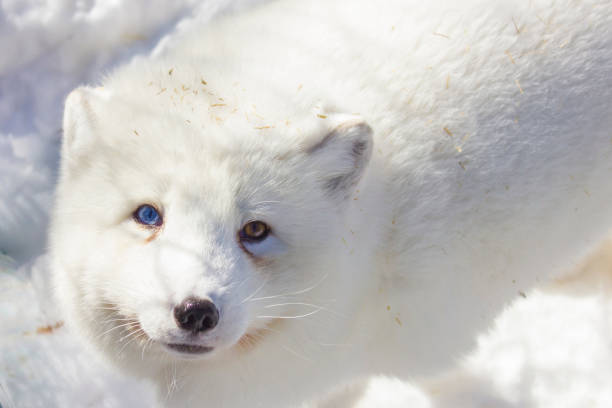arcticfox: (100, 154, 301, 346)
